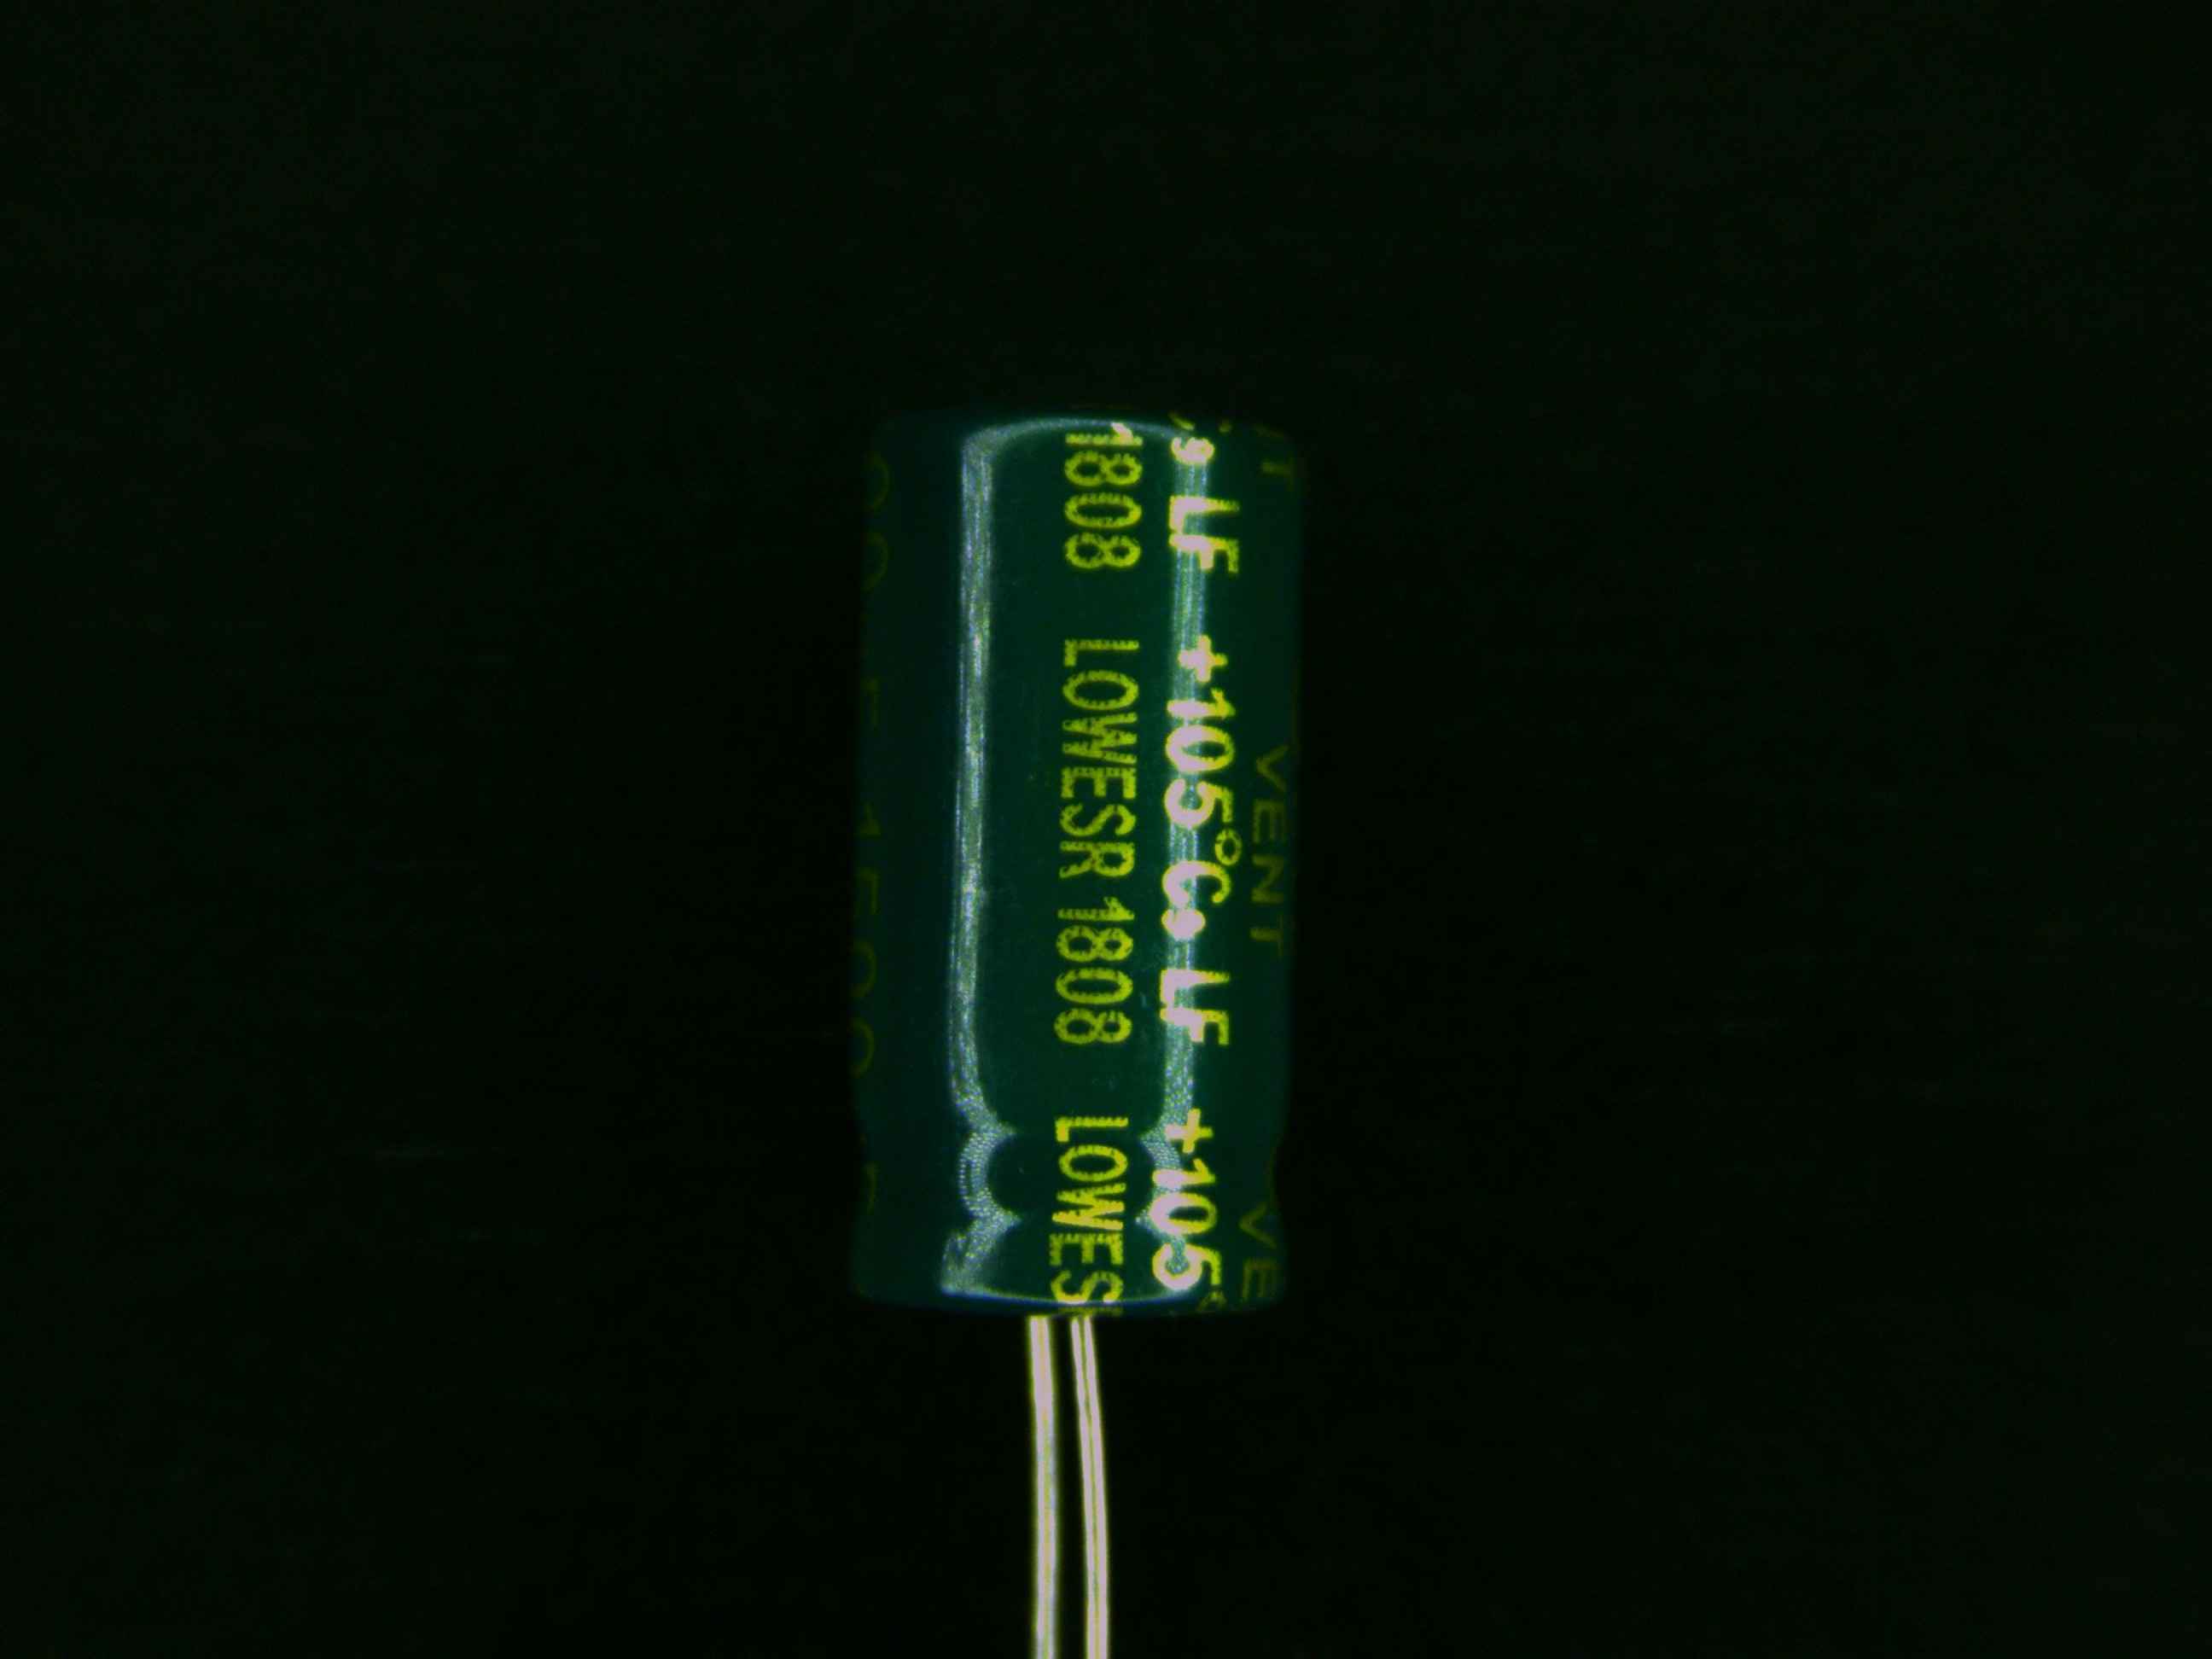c1: (838, 413, 1312, 1363)
